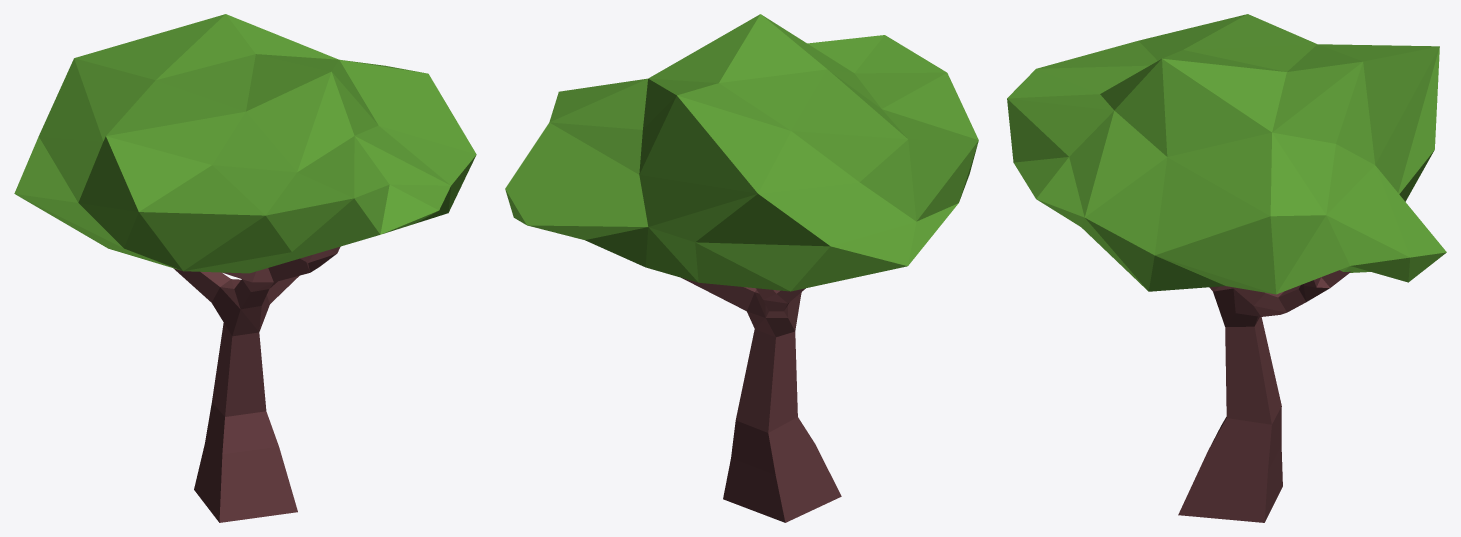
File: Tree1.fbx
3 renders of one model, left to right at view 1: azimuth 30°, elevation 25°; view 2: azimuth 150°, elevation 25°; view 3: azimuth 270°, elevation 25°, orthographic. The views are drawn at different scales.
Parts seen in each view (by area): view 1: Leaves1, Trunk1; view 2: Leaves1, Trunk1; view 3: Leaves1, Trunk1.
Part boxes in pixels (box(x1,y1,x2,y2)): Leaves1: box(14, 14, 476, 273); Trunk1: box(173, 246, 340, 522); Leaves1: box(505, 14, 978, 291); Trunk1: box(681, 277, 841, 522); Leaves1: box(1007, 14, 1446, 294); Trunk1: box(1178, 270, 1350, 522).
Bounding box in the file's own units: 474 × 522 × 559.
